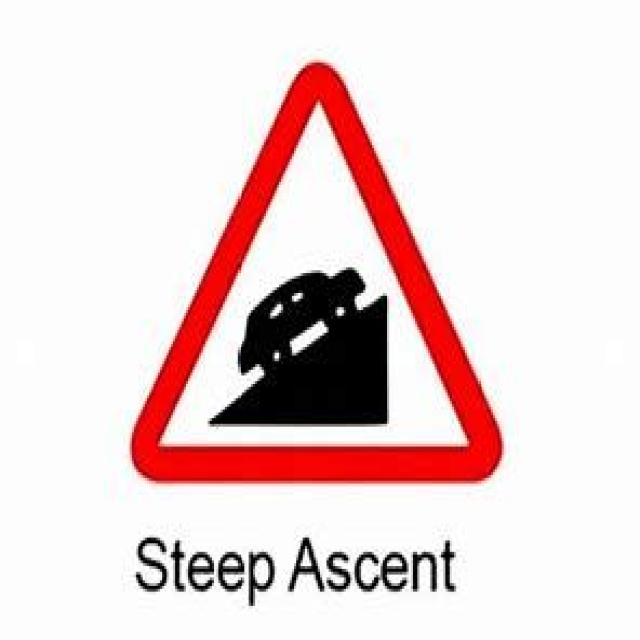STEEP_ASCENT: (90, 56, 522, 502)
